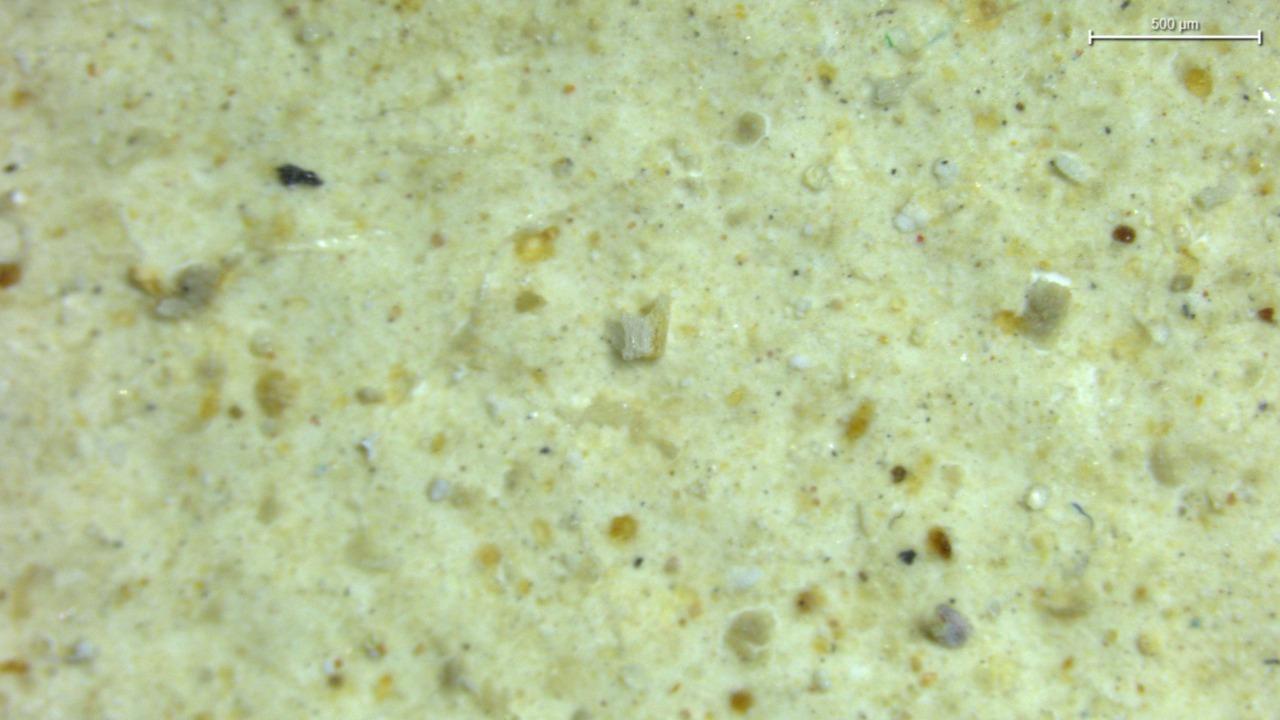microplastic_fragment: (620, 297, 669, 360), (894, 203, 930, 231)
